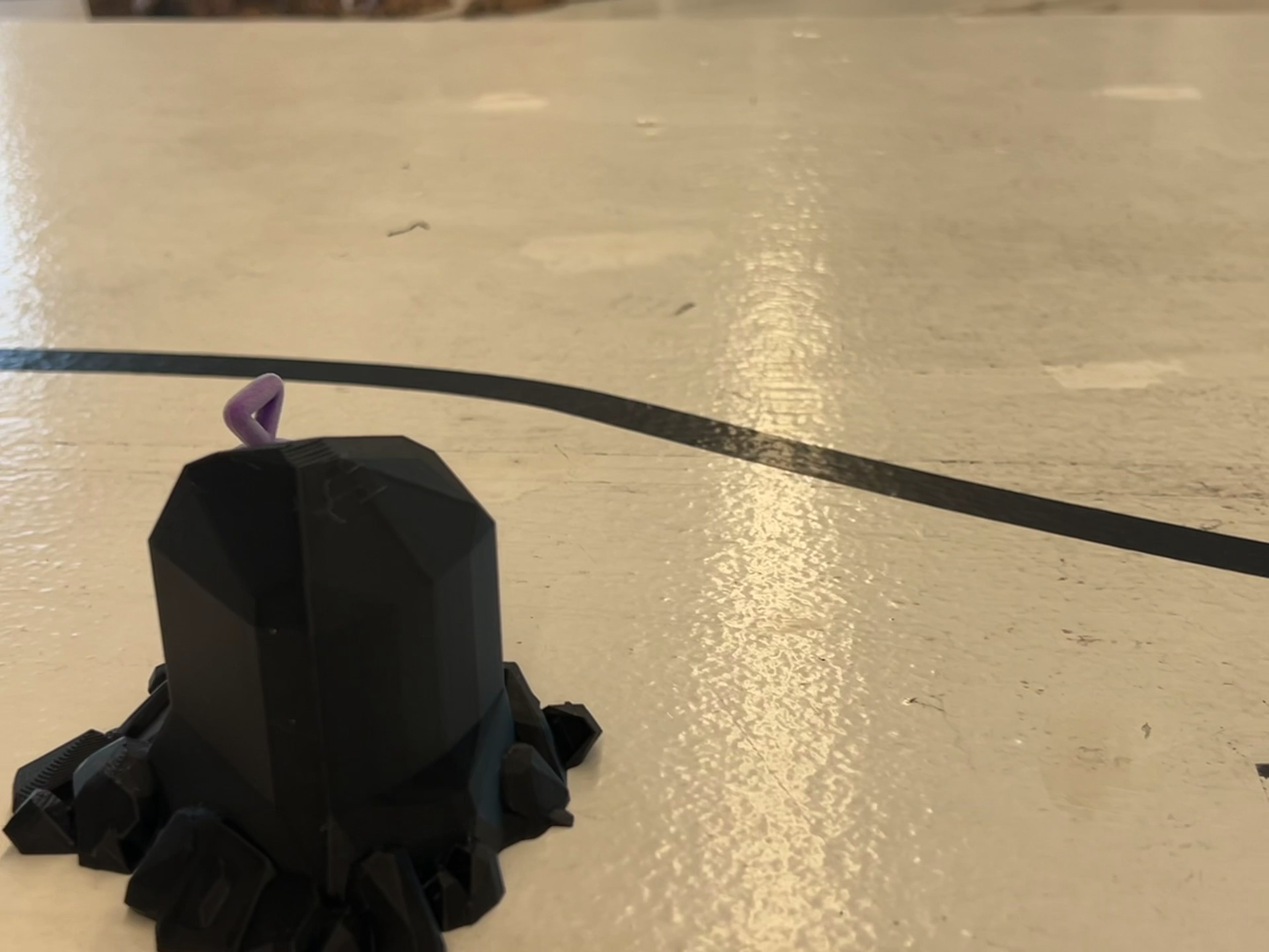teletubby: (223, 373, 284, 447)
